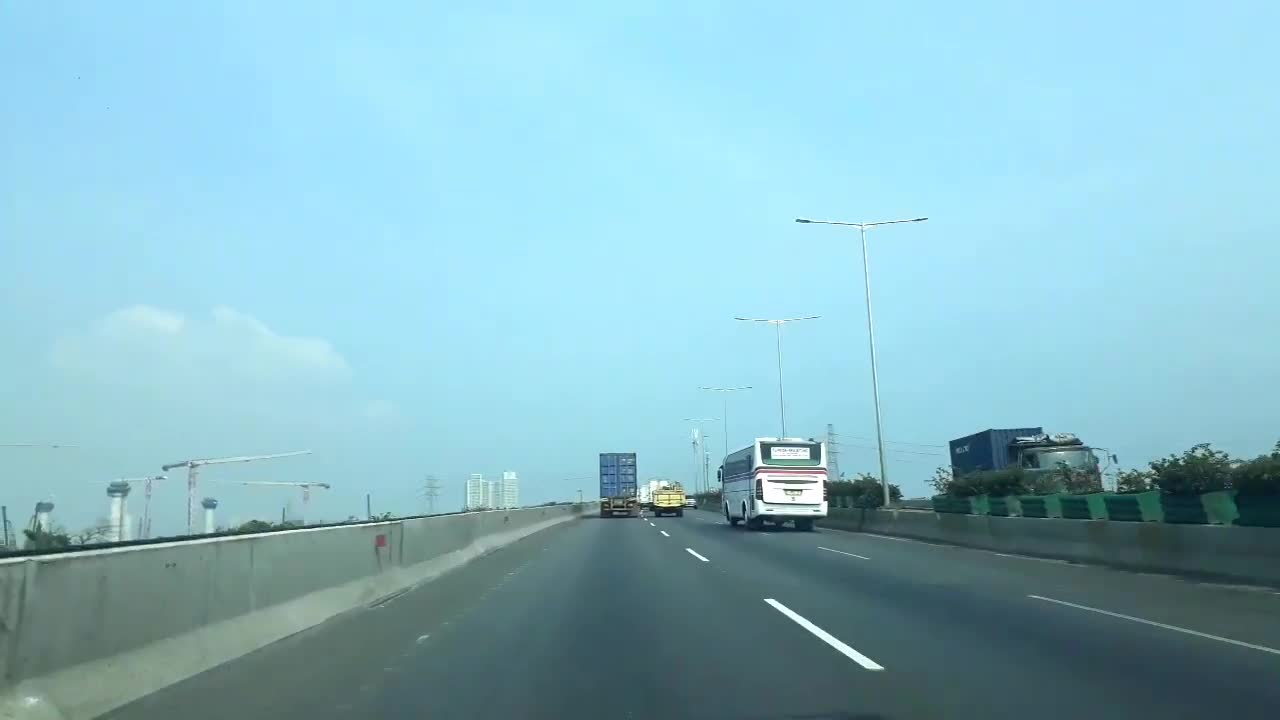plate_positive: (786, 489, 801, 494)
